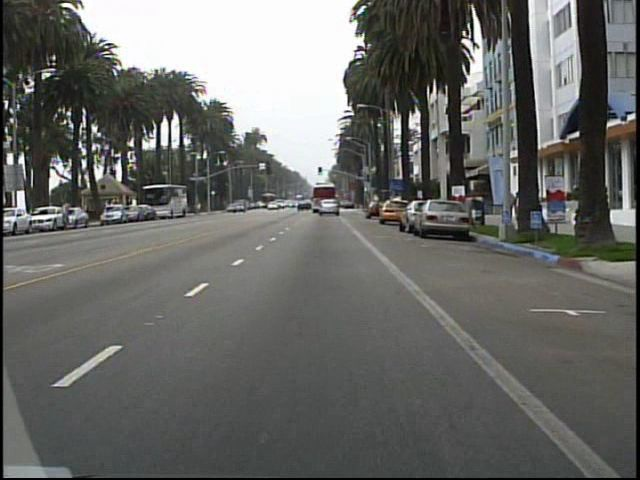person: (529, 181, 547, 230), (510, 184, 516, 226)
